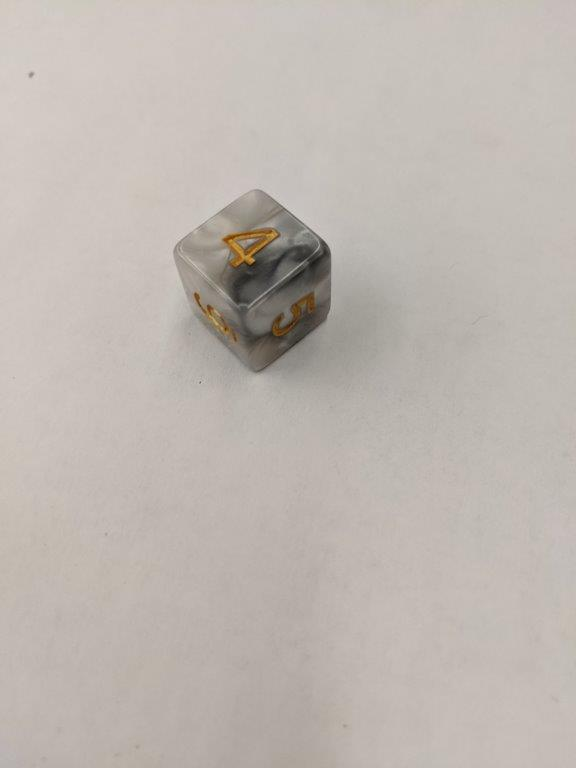d6-4: (172, 186, 335, 375)
